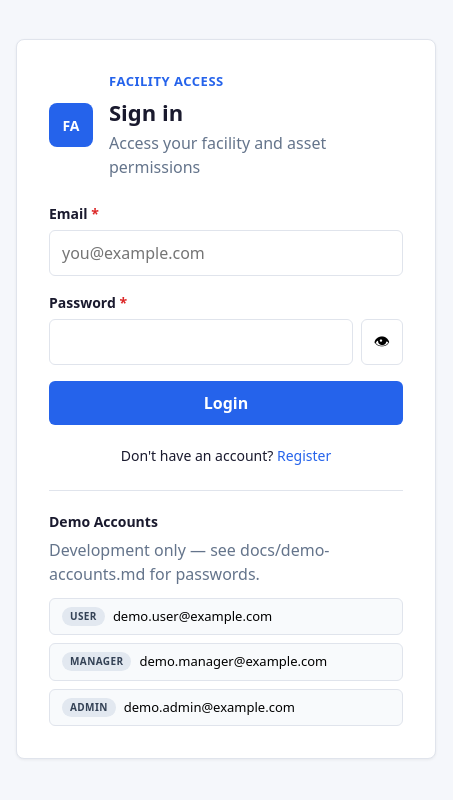
Test: Authentication › validation works
Click the button "Login": [226, 402] box [49,380,403,424]
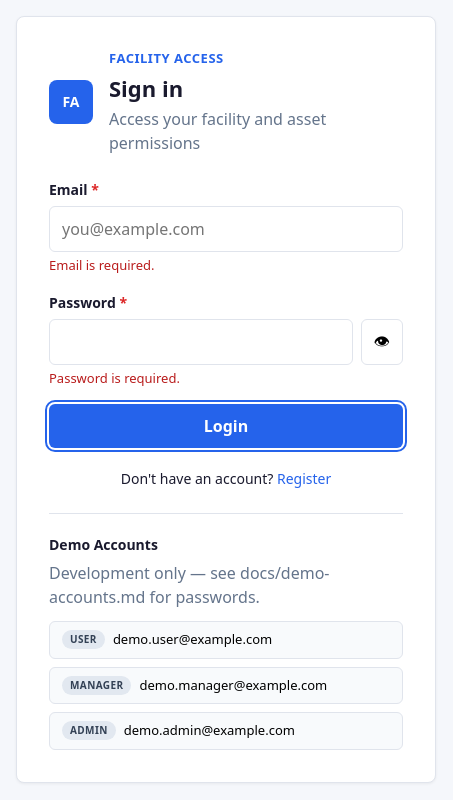
Expected: the text "Email is required." is shown, [49,256,154,274]
Expected: the text "Password is required." is shown, [49,368,180,386]
